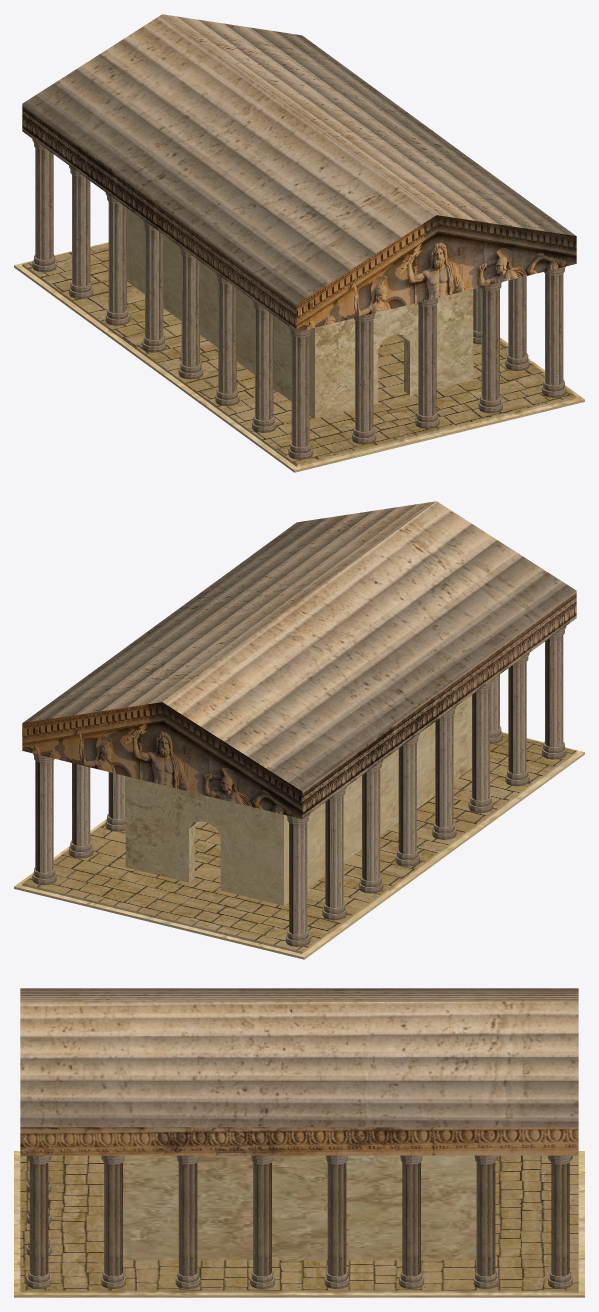
File: shrineーｍ.glb
3 views of the same model, one above another, from view 1: azimuth 30°, elevation 25°; view 2: azimuth 150°, elevation 25°; view 3: azimuth 270°, elevation 25° (orthographic).
Visible parts, largest first — view 1: 屋根; view 2: 屋根; view 3: 屋根.
Part boxes in pixels (x1=…): 屋根: x1=14, y1=14, x2=584, y2=472; 屋根: x1=14, y1=501, x2=584, y2=959; 屋根: x1=14, y1=988, x2=584, y2=1297.
Bounding box in the file's own units: 27.5 × 19.9 × 46.
5 materials, 5 textured.
